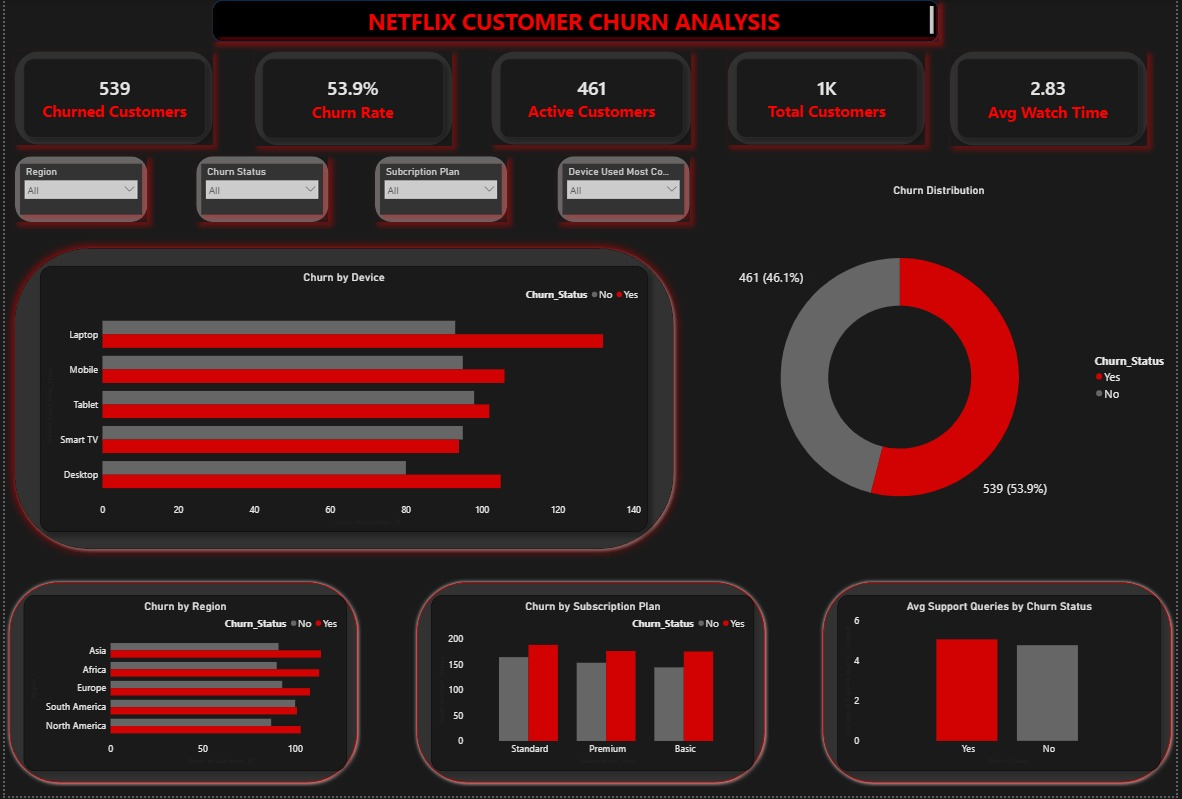

This screenshot's page, from the dashboard's own definition file:
{"tool":"powerbi","page":{"name":"Page 1","canvas":[2500,1700],"ordinal":0},"visuals":[{"type":"group","id":"g1","title":"Group 1","box":[444,0,1550.5,88.8],"z":0},{"type":"shape","box":[444,0,1551.1,90],"z":0,"group":"g1"},{"type":"shape","box":[20.5,109.3,422.5,199.7],"z":0,"group":"g5"},{"type":"shape","box":[532.8,109.3,420.9,201.3],"z":0,"group":"g4"},{"type":"shape","box":[1038.3,109.3,426.5,199.7],"z":0,"group":"g3"},{"type":"shape","box":[1543.7,109.3,421.8,199.7],"z":0,"group":"g2"},{"type":"shape","box":[2018.4,109.3,421.4,201.8],"z":0,"group":"g12"},{"type":"shape","box":[408.5,333.7,282.2,140.5],"z":0,"group":"g9"},{"type":"shape","box":[1180,333.7,282.2,140.5],"z":0,"group":"g8"},{"type":"shape","box":[20.5,334.7,282.7,140.5],"z":0,"group":"g6"},{"type":"shape","box":[788.9,334.7,282.2,140.5],"z":0,"group":"g7"},{"type":"shape","box":[0,509.3,1448.1,683.1],"z":0,"group":"g11"},{"type":"shape","box":[0,1232.9,761.6,447.4],"z":0,"group":"g10"},{"type":"shape","box":[870.9,1232.9,761.6,447.4],"z":0,"group":"g14"},{"type":"shape","box":[1738.4,1232.9,761.6,447.4],"z":0,"group":"g13"},{"type":"textbox","box":[451.1,9.3,1537,71.4],"z":1000,"group":"g1"},{"type":"group","id":"g2","title":"Group 2","box":[1543.7,109.3,423.5,201.5],"z":1000},{"type":"cardVisual","fields":{"Data":["netflix_cleaned.Churned Customers"]},"box":[37.9,125.9,388.5,167.8],"z":1000,"group":"g5"},{"type":"cardVisual","fields":{"Data":["netflix_cleaned.Active Customers"]},"box":[1055.9,125.9,392.2,167.8],"z":1000,"group":"g3"},{"type":"cardVisual","fields":{"Data":["Count(netflix_cleaned.Customer_ID)"]},"box":[1561.1,125.9,387.8,167.8],"z":1000,"group":"g2"},{"type":"cardVisual","fields":{"Data":["netflix_cleaned.Churn Rate"]},"box":[550.1,126,387,169.2],"z":1000,"group":"g4"},{"type":"cardVisual","fields":{"Data":["Avg(netflix_cleaned.Daily_Watch_Time_Hours)"]},"box":[2035.7,126.1,387.4,169.7],"z":1000,"group":"g12"},{"type":"slicer","fields":{"Values":["netflix_cleaned.Churn_Status"]},"box":[419.6,348.6,260,108.6],"z":1000,"group":"g9"},{"type":"slicer","fields":{"Values":["netflix_cleaned.Device_Used_Most_Often"]},"box":[1191.1,348.6,260,108.6],"z":1000,"group":"g8"},{"type":"slicer","fields":{"Values":["netflix_cleaned.Region"]},"box":[31.6,349.6,260.4,108.6],"z":1000,"group":"g6"},{"type":"slicer","fields":{"Values":["netflix_cleaned.Subscription_Plan"]},"box":[800,349.6,260,108.6],"z":1000,"group":"g7"},{"type":"clusteredBarChart","title":"Churn by Device","fields":{"Category":["netflix_cleaned.Device_Used_Most_Often"],"Y":["CountNonNull(netflix_cleaned.Customer_ID)"],"Series":["netflix_cleaned.Churn_Status"]},"box":[75.1,567.4,1297.8,566.9],"z":1000,"group":"g11"},{"type":"clusteredBarChart","title":"Churn by Region","fields":{"Category":["netflix_cleaned.Region"],"Y":["CountNonNull(netflix_cleaned.Customer_ID)"],"Series":["netflix_cleaned.Churn_Status"]},"box":[39.1,1269.2,689.9,375.7],"z":1000,"group":"g10"},{"type":"clusteredColumnChart","title":"Churn by Subscription Plan","fields":{"Category":["netflix_cleaned.Subscription_Plan"],"Series":["netflix_cleaned.Churn_Status"],"Y":["CountNonNull(netflix_cleaned.Churn_Status)"]},"box":[910,1269.2,689.9,375.7],"z":1000,"group":"g14"},{"type":"clusteredColumnChart","title":"Avg Support Queries by Churn Status","fields":{"Category":["netflix_cleaned.Churn_Status"],"Y":["Avg(netflix_cleaned.Support_Queries_Logged)"]},"box":[1777.5,1269.2,689.9,375.7],"z":1000,"group":"g13"},{"type":"group","id":"g3","title":"Group 2","box":[1038.3,109.3,423.5,201.5],"z":2000},{"type":"group","id":"g4","title":"Group 2","box":[532.8,109.3,423.5,201.5],"z":3000},{"type":"group","id":"g5","title":"Group 2","box":[20.5,109.3,423.5,201.5],"z":4000},{"type":"group","id":"g6","title":"Group 3","box":[20.5,334.7,283.5,140],"z":5000},{"type":"group","id":"g7","title":"Group 3","box":[788.9,334.7,283.5,140],"z":6000},{"type":"group","id":"g8","title":"Group 3","box":[1180,333.7,283,138.8],"z":7000},{"type":"group","id":"g9","title":"Group 3","box":[408.5,333.7,283,138.8],"z":8000},{"type":"group","id":"g10","title":"Group 4","box":[0,1232.9,761.6,447.4],"z":9000},{"type":"donutChart","title":"Churn Distribution","fields":{"Category":["netflix_cleaned.Churn_Status"],"Y":["CountNonNull(netflix_cleaned.Customer_ID)"]},"box":[1489.1,392.8,1010.9,799.2],"z":10000},{"type":"group","id":"g11","title":"Group 4","box":[0,509.3,1448.1,683.1],"z":11000},{"type":"group","id":"g12","title":"Group 2","box":[2018.4,109.3,423.5,201.5],"z":12000},{"type":"group","id":"g13","title":"Group 4","box":[1738.4,1232.9,761.6,447.4],"z":13000},{"type":"group","id":"g14","title":"Group 4","box":[870.9,1232.9,761.6,447.4],"z":14000}]}

Visuals, with their boxes in screenshot pixels (x1, y1, x2, y2), scaled from the page's 2500x1700 canvas onto the 1182x799 screenshot:
"Group 1" group: locate(210, 0, 943, 42)
shape: locate(210, 0, 943, 42)
shape: locate(10, 51, 209, 145)
shape: locate(252, 51, 451, 146)
shape: locate(491, 51, 693, 145)
shape: locate(730, 51, 929, 145)
shape: locate(954, 51, 1154, 146)
shape: locate(193, 157, 327, 223)
shape: locate(558, 157, 691, 223)
shape: locate(10, 157, 143, 223)
shape: locate(373, 157, 506, 223)
shape: locate(0, 239, 685, 560)
shape: locate(0, 579, 360, 790)
shape: locate(412, 579, 772, 790)
shape: locate(822, 579, 1181, 790)
textbox: locate(213, 4, 940, 38)
"Group 2" group: locate(730, 51, 930, 146)
cardVisual - netflix_cleaned.Churned Customers: locate(18, 59, 202, 138)
cardVisual - netflix_cleaned.Active Customers: locate(499, 59, 685, 138)
cardVisual - Count(netflix_cleaned.Customer_ID): locate(738, 59, 921, 138)
cardVisual - netflix_cleaned.Churn Rate: locate(260, 59, 443, 139)
cardVisual - Avg(netflix_cleaned.Daily_Watch_Time_Hours): locate(962, 59, 1146, 139)
slicer - netflix_cleaned.Churn_Status: locate(198, 164, 321, 215)
slicer - netflix_cleaned.Device_Used_Most_Often: locate(563, 164, 686, 215)
slicer - netflix_cleaned.Region: locate(15, 164, 138, 215)
slicer - netflix_cleaned.Subscription_Plan: locate(378, 164, 501, 215)
"Churn by Device" clusteredBarChart: locate(36, 267, 649, 533)
"Churn by Region" clusteredBarChart: locate(18, 597, 345, 773)
"Churn by Subscription Plan" clusteredColumnChart: locate(430, 597, 756, 773)
"Avg Support Queries by Churn Status" clusteredColumnChart: locate(840, 597, 1167, 773)
"Group 2" group: locate(491, 51, 691, 146)
"Group 2" group: locate(252, 51, 452, 146)
"Group 2" group: locate(10, 51, 210, 146)
"Group 3" group: locate(10, 157, 144, 223)
"Group 3" group: locate(373, 157, 507, 223)
"Group 3" group: locate(558, 157, 692, 222)
"Group 3" group: locate(193, 157, 327, 222)
"Group 4" group: locate(0, 579, 360, 790)
"Churn Distribution" donutChart: locate(704, 185, 1181, 560)
"Group 4" group: locate(0, 239, 685, 560)
"Group 2" group: locate(954, 51, 1155, 146)
"Group 4" group: locate(822, 579, 1181, 790)
"Group 4" group: locate(412, 579, 772, 790)
